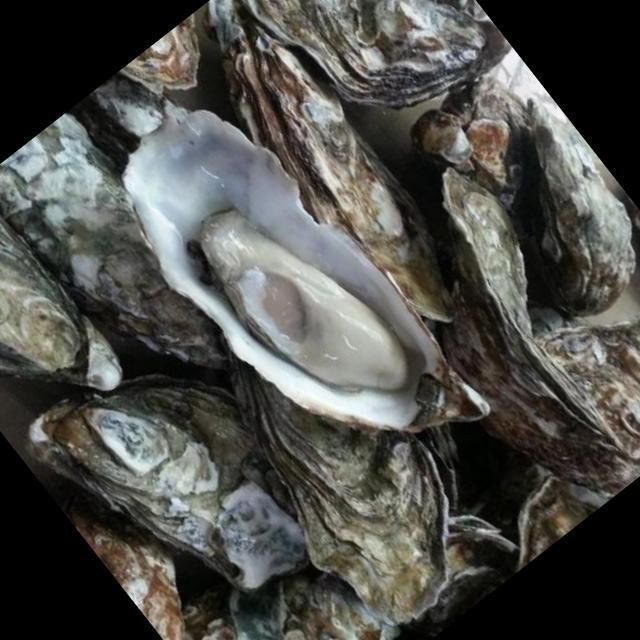Oyster- Indeterminate: (312, 59, 640, 529), (163, 0, 491, 355), (14, 309, 346, 640), (192, 307, 508, 640), (0, 104, 271, 433), (448, 90, 640, 332), (230, 0, 513, 161), (0, 178, 136, 462), (171, 530, 418, 640)
Oyster-Open: (85, 62, 502, 526)
